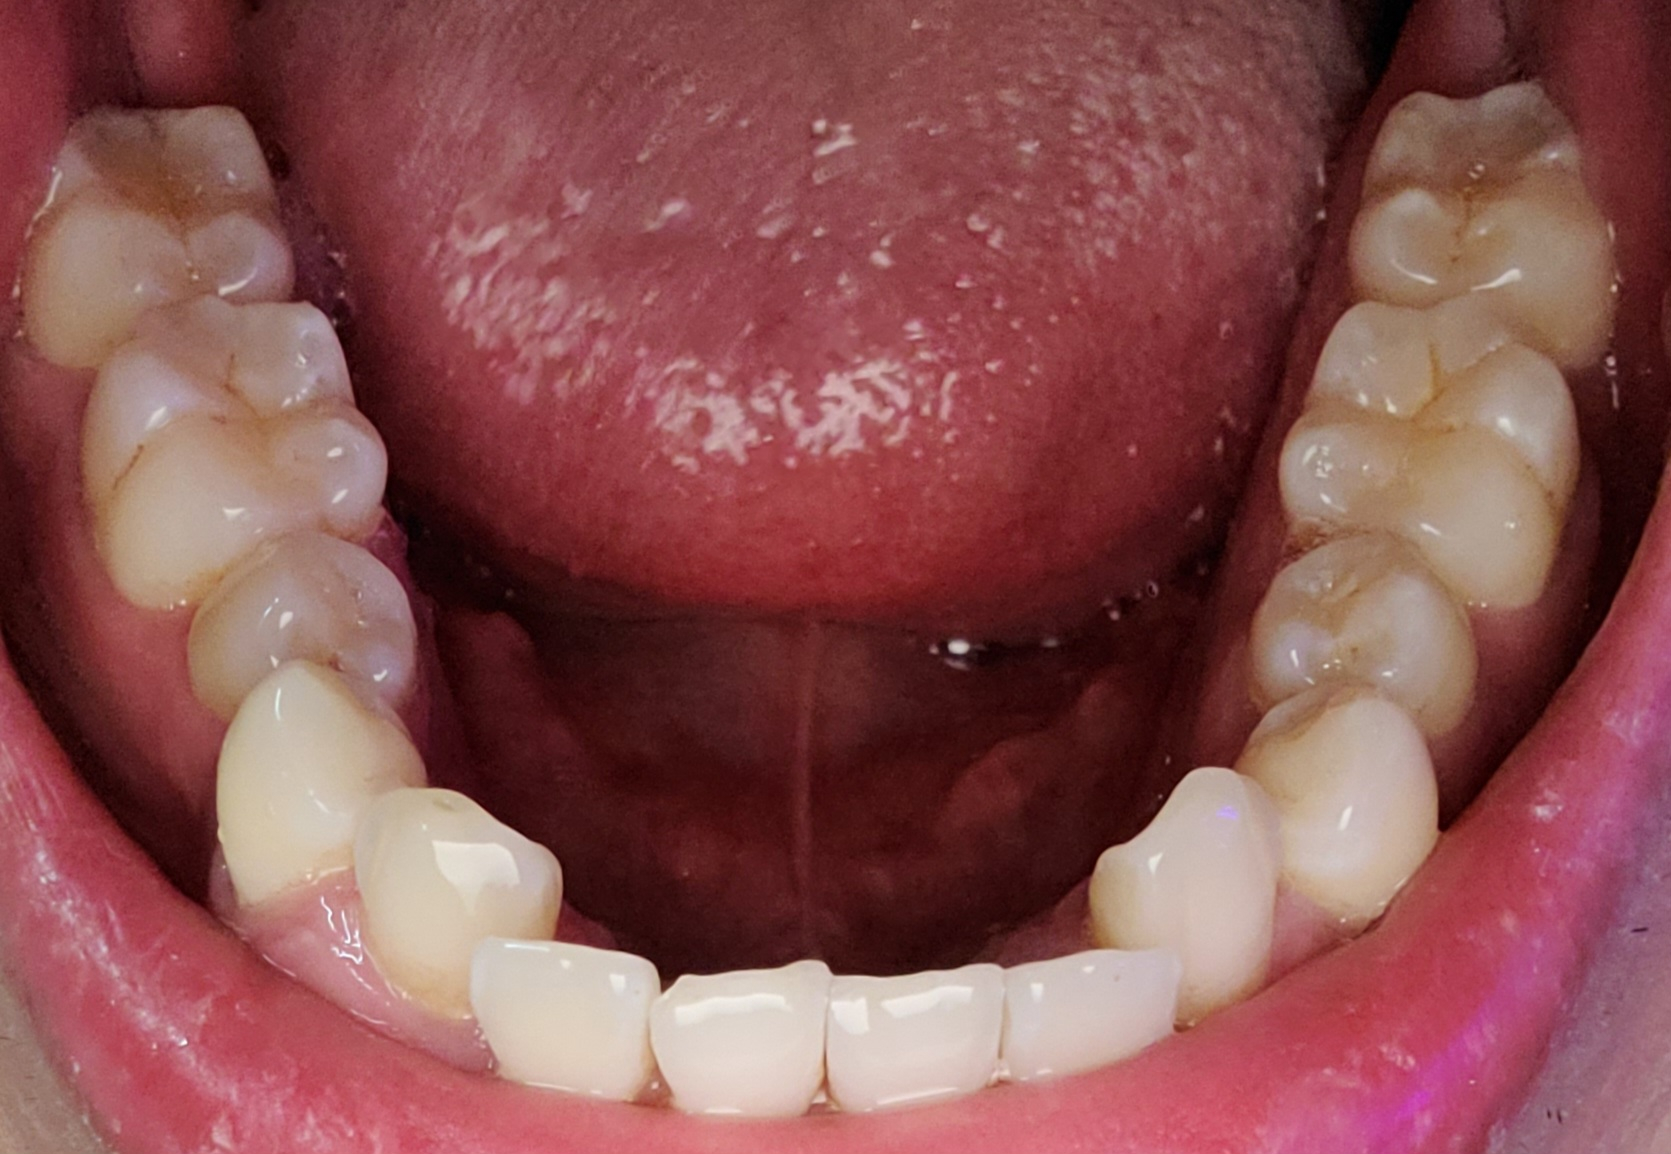teeth: (1276, 302, 1572, 606), (83, 309, 381, 610), (1353, 64, 1621, 359), (28, 101, 282, 356), (1093, 770, 1285, 1026), (1248, 532, 1477, 736), (348, 788, 568, 998), (1246, 698, 1455, 910), (225, 681, 416, 907), (180, 545, 427, 708), (655, 963, 825, 1118), (475, 951, 648, 1101), (840, 966, 1014, 1107), (1016, 946, 1176, 1081)
